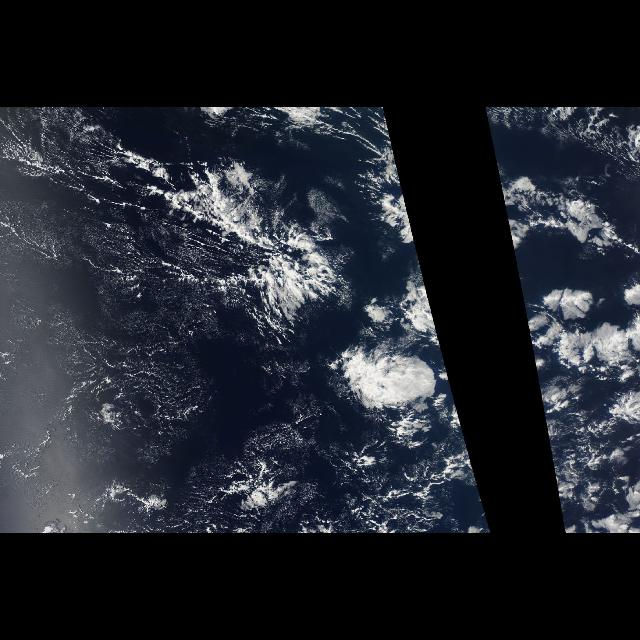Fish: (164, 148, 338, 344)
Flower: (266, 219, 479, 485), (504, 219, 640, 485)
Sugar: (3, 110, 219, 526)
